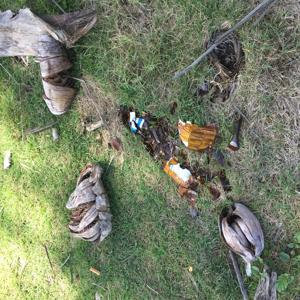plastic: (180, 117, 221, 153), (165, 156, 200, 193), (119, 102, 148, 137)
